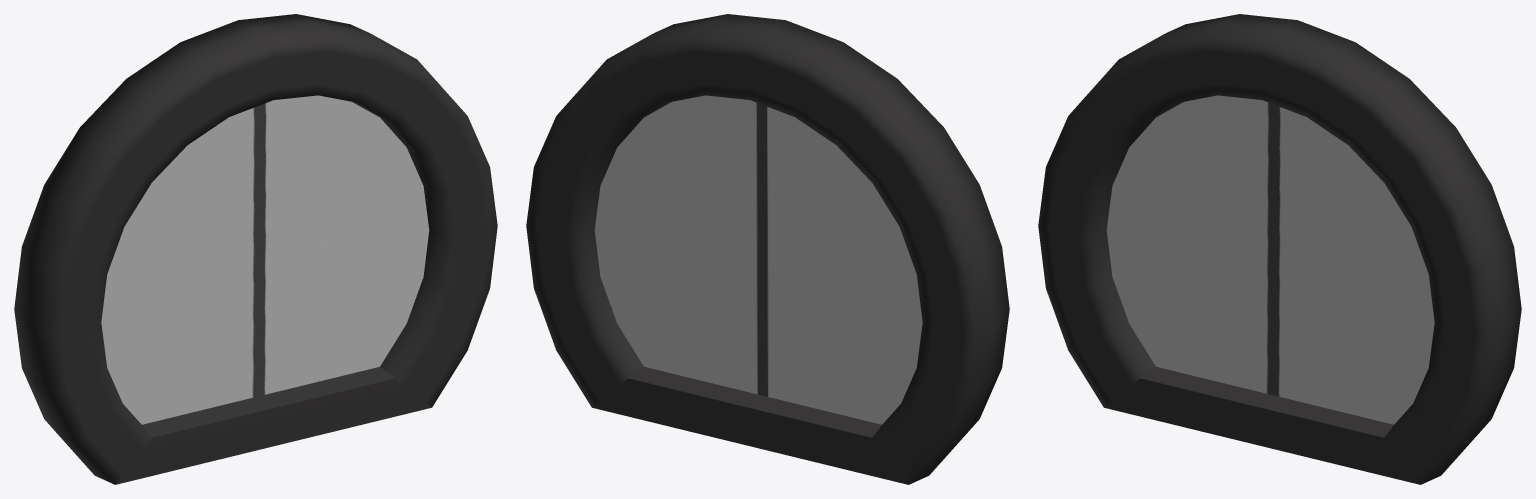
The model's file is closedDoor.fbx.
3 renders of one model, left to right at view 1: azimuth 30°, elevation 25°; view 2: azimuth 150°, elevation 25°; view 3: azimuth 330°, elevation 25°, orthographic.
Parts seen in each view (by area): view 1: Torus002; view 2: Torus002; view 3: Torus002.
Part boxes in pixels (x1,y1,x2,y2): Torus002: (14,14,497,484); Torus002: (526,14,1009,484); Torus002: (1038,14,1521,484).
Bounding box in the file's own units: 161 × 137 × 21.75.
1 material, 1 textured.
